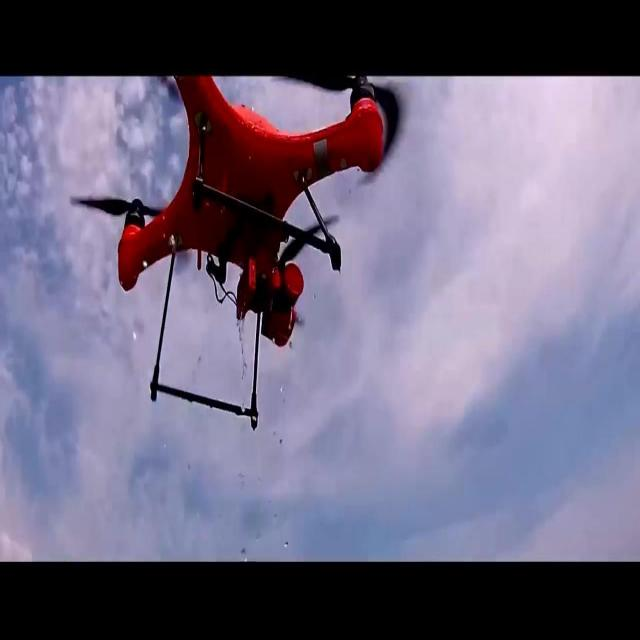UAV: (70, 75, 416, 432)
